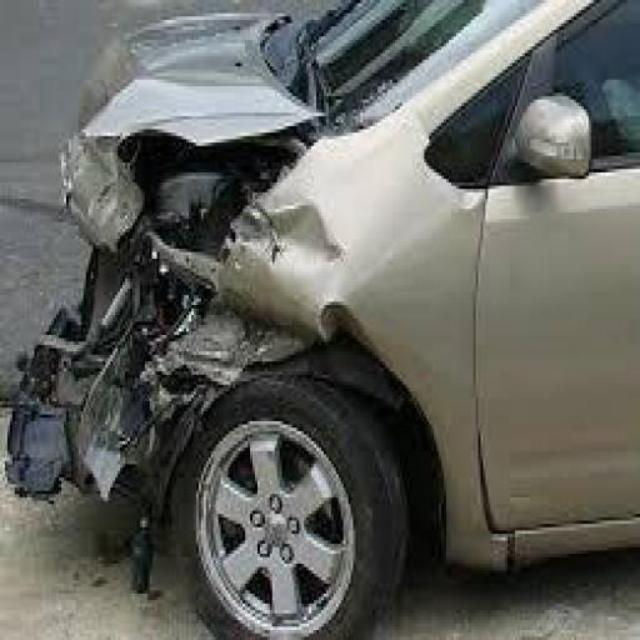crash: (2, 91, 355, 598)
